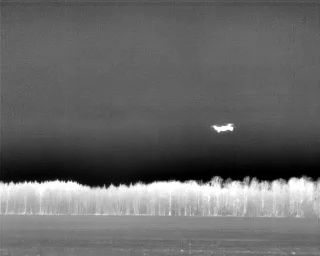DRONE: (208, 117, 239, 138)
